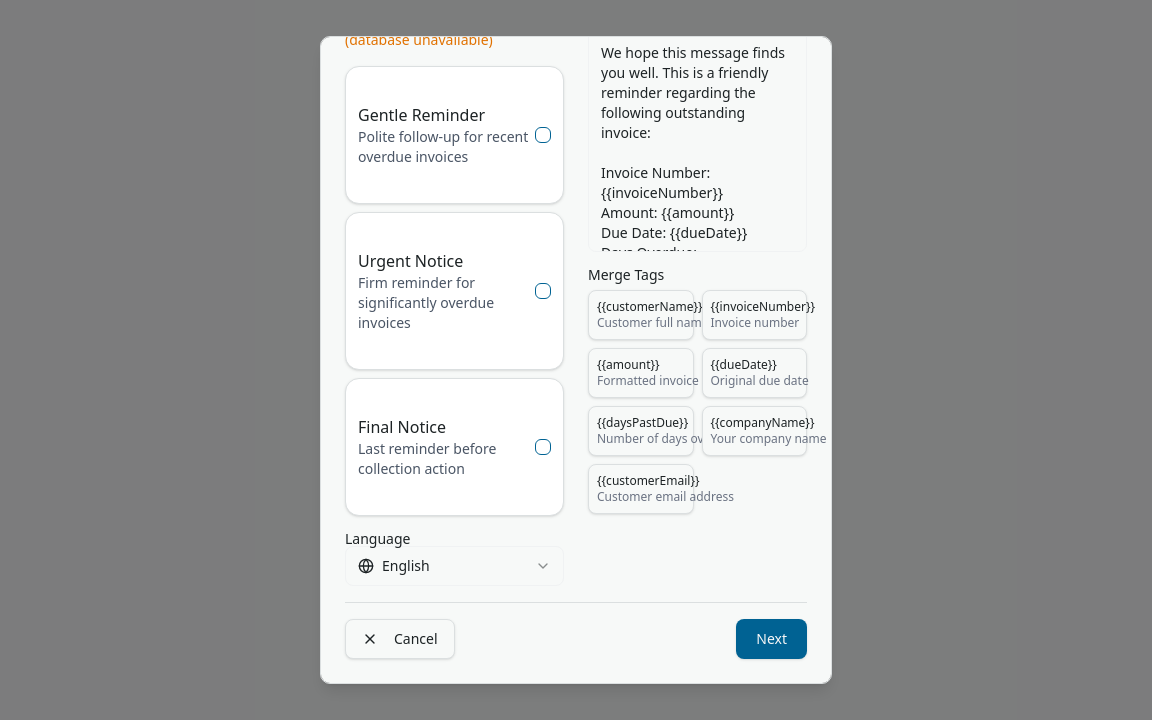
EmailCampaignModal › should handle navigation between steps
The width and height of the screenshot is (1152, 720).
(page scrolled)
Click Next to go to Settings
Click the button "Next" at (772, 639), box [736,619,807,659]
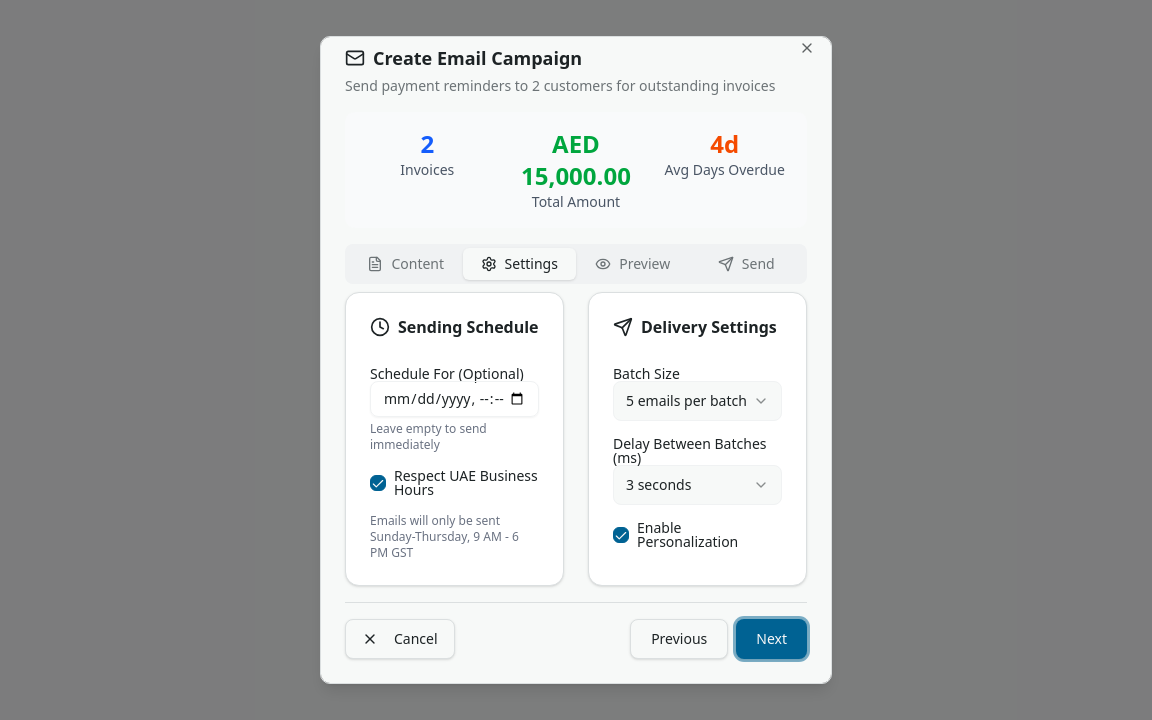
Expected: the text "Sending Schedule" is shown, [370,317,539,337]
Click Previous to go back to Content
Click the button "Previous" at (679, 639), box [630,619,728,659]
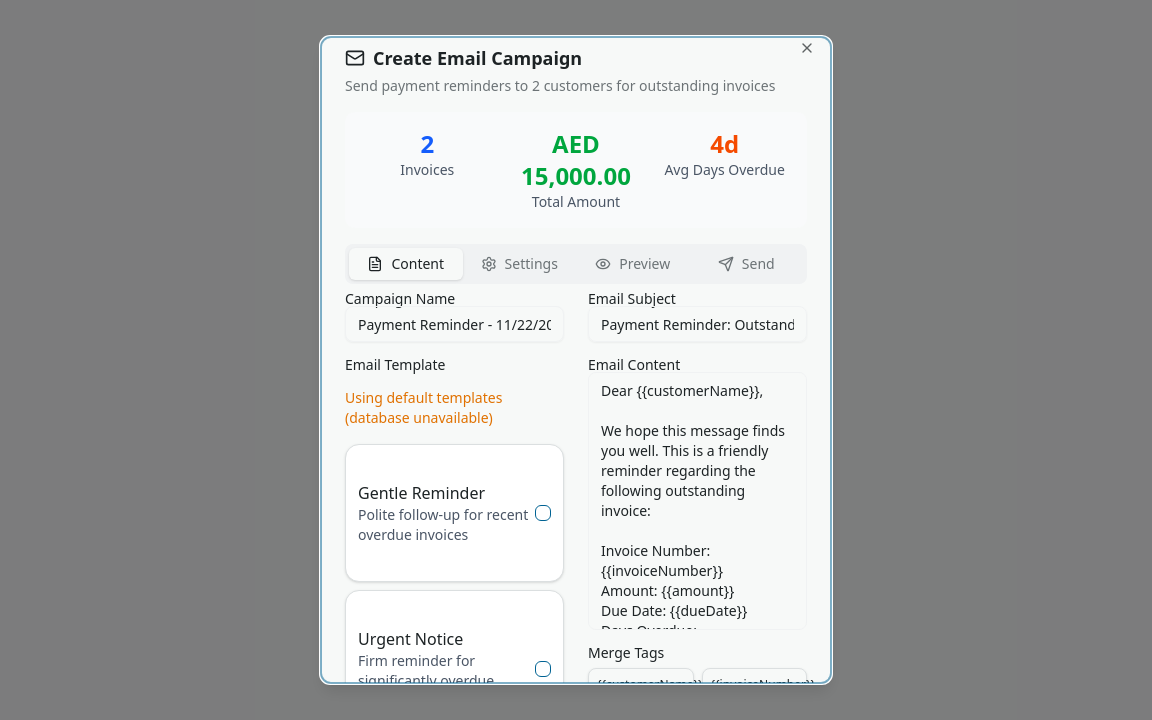
Expected: the field labelled "Campaign Name" is shown, [345,306,564,342]
